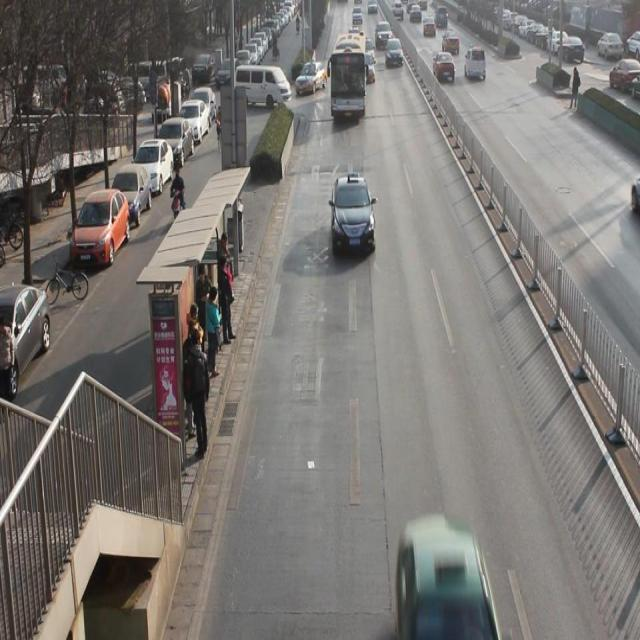car: (398, 526, 495, 627), (330, 175, 375, 252), (464, 48, 489, 86), (433, 52, 458, 84), (303, 61, 323, 94), (384, 38, 404, 71), (376, 21, 393, 50), (362, 34, 376, 66), (442, 30, 461, 53), (362, 54, 374, 86)
van: (329, 34, 364, 122)
